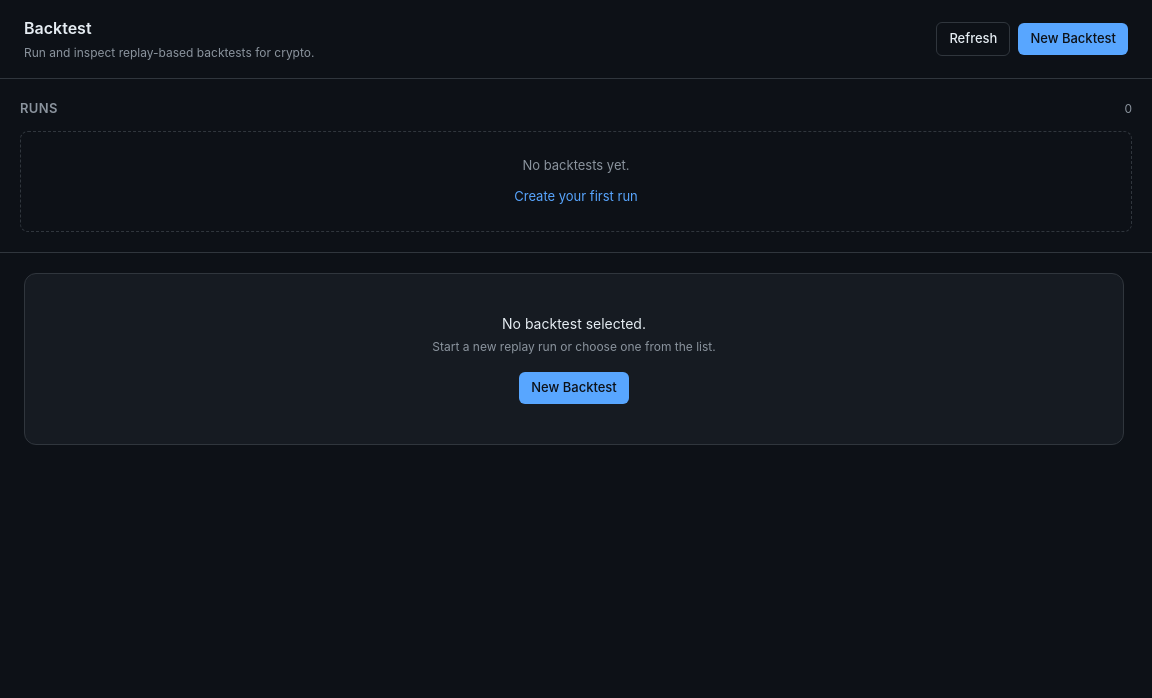
Test: BacktestPage › creates a new backtest from fetched bars
This screenshot has width=1152, height=698.
Click the 1st button "New Backtest" at {"x": 1073, "y": 39}, box [1018,23,1128,55]
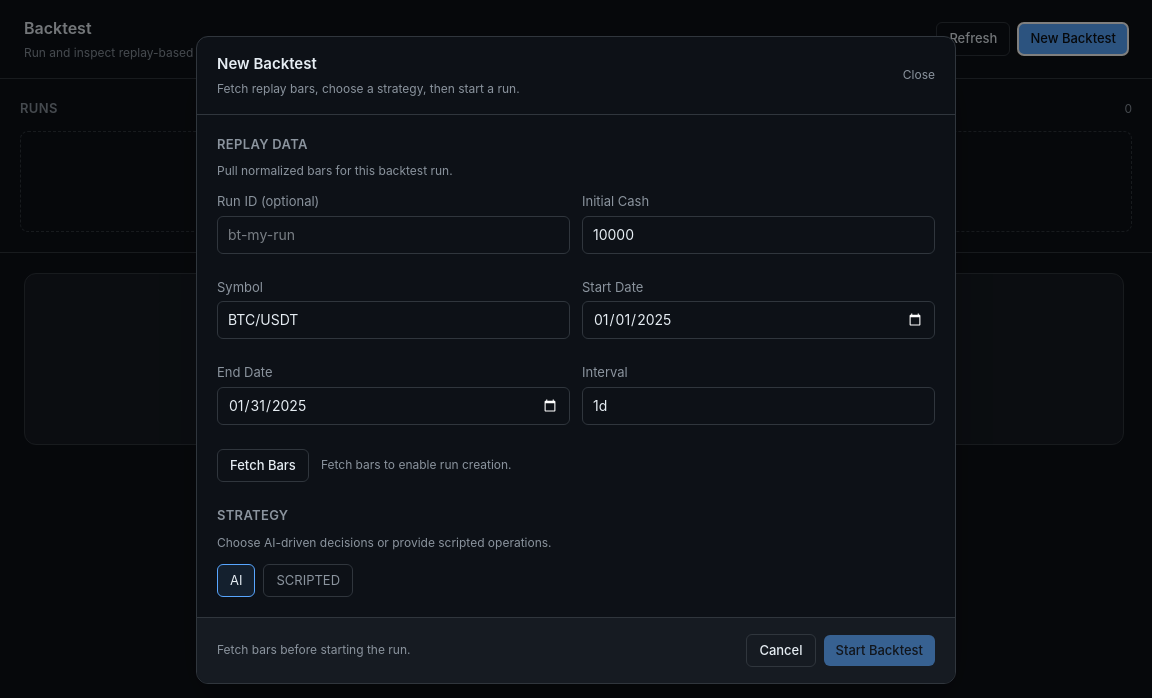
Check: the button "Start Backtest" is shown, box [824,634,935,666]
Type "bt-sample" into the field labelled "Run ID (optional)" at {"x": 394, "y": 234}, box [217,216,570,254]
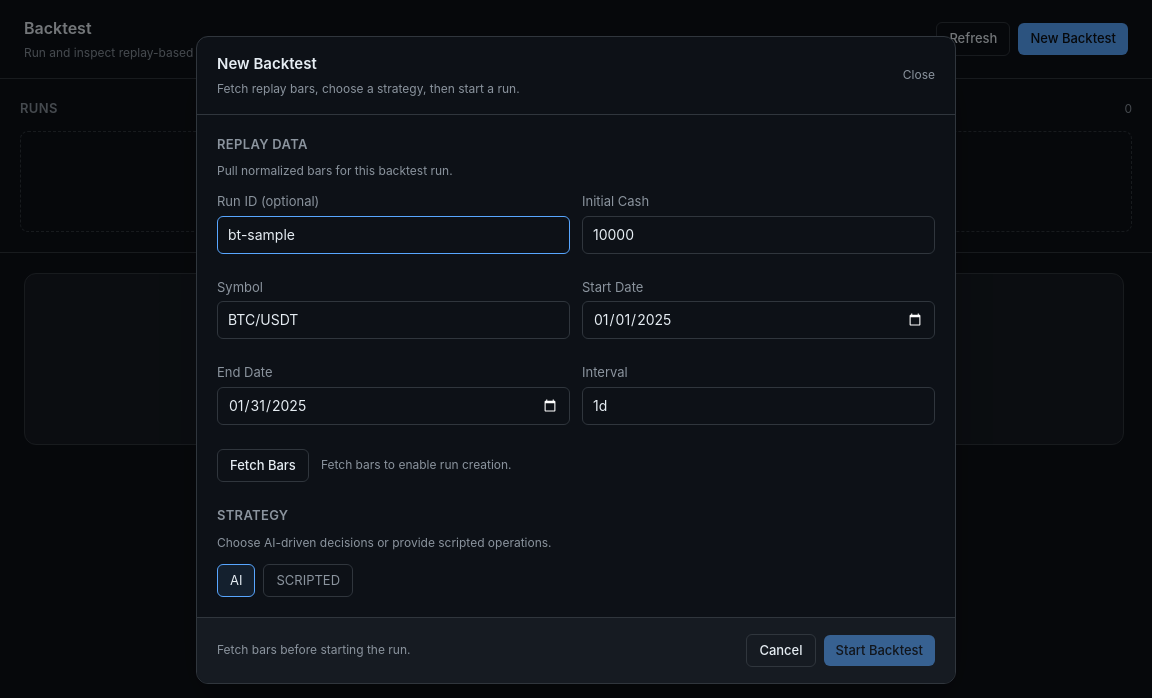
Replace the text in the field labelled "Initial Cash" with "15000" at {"x": 758, "y": 234}, box [582,216,935,254]
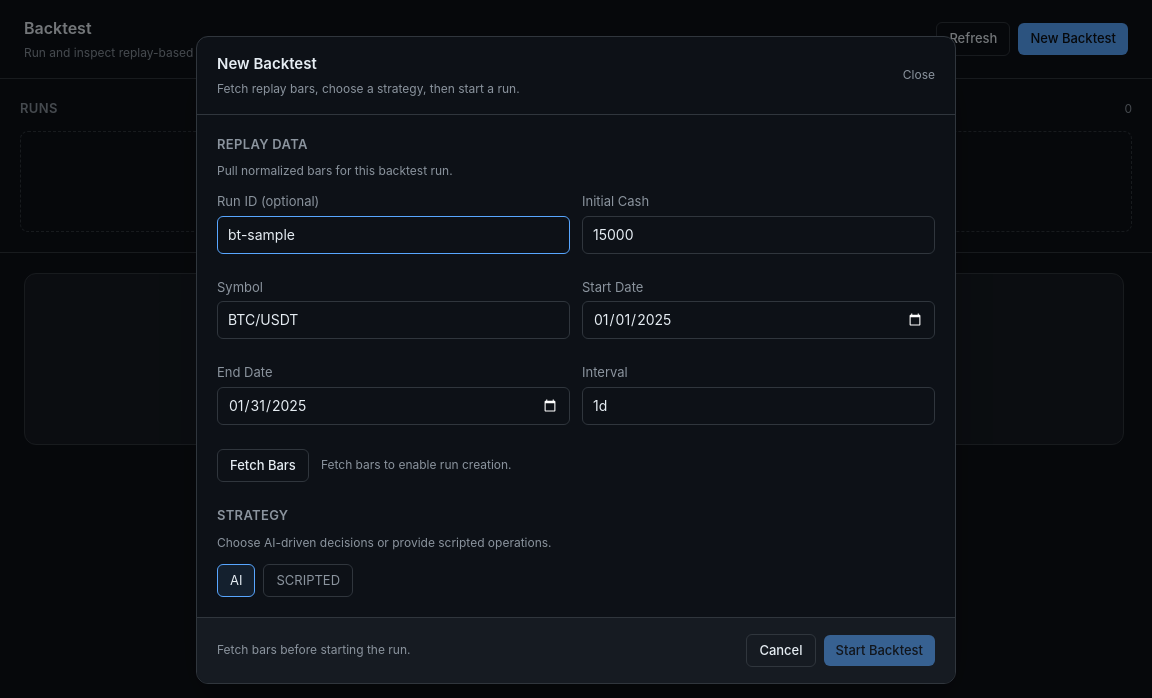
Click the button "Fetch Bars" at {"x": 263, "y": 465}, box [217,448,309,482]
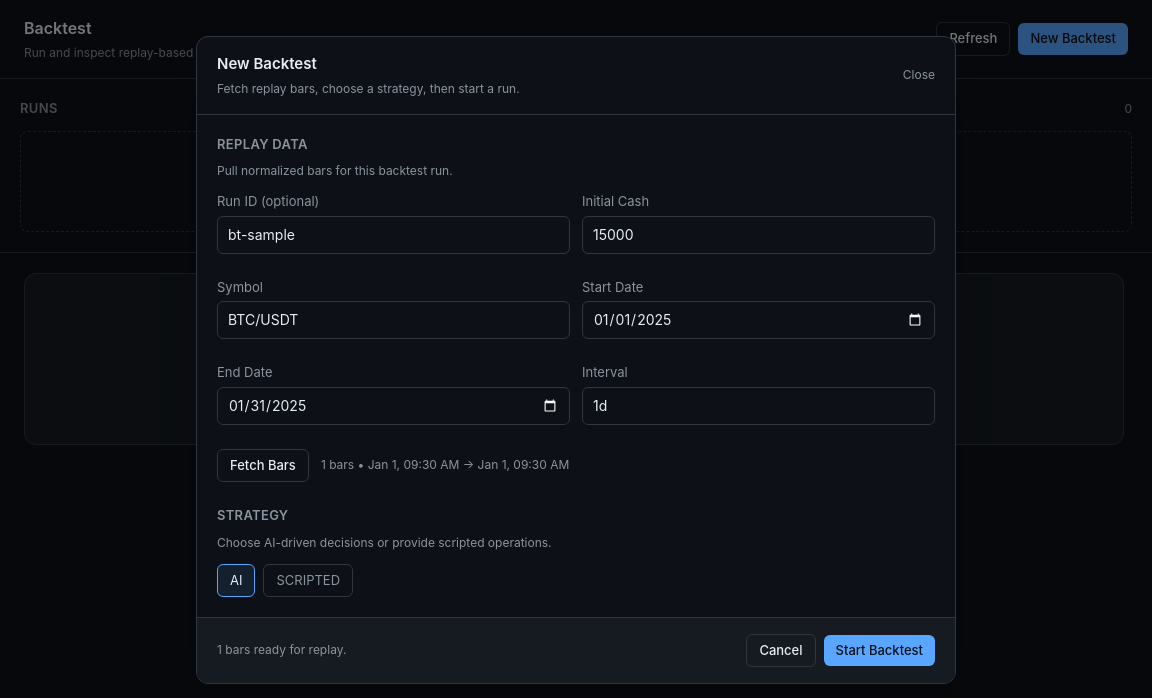
Click the button "Start Backtest" at {"x": 879, "y": 650}, box [824,634,935,666]
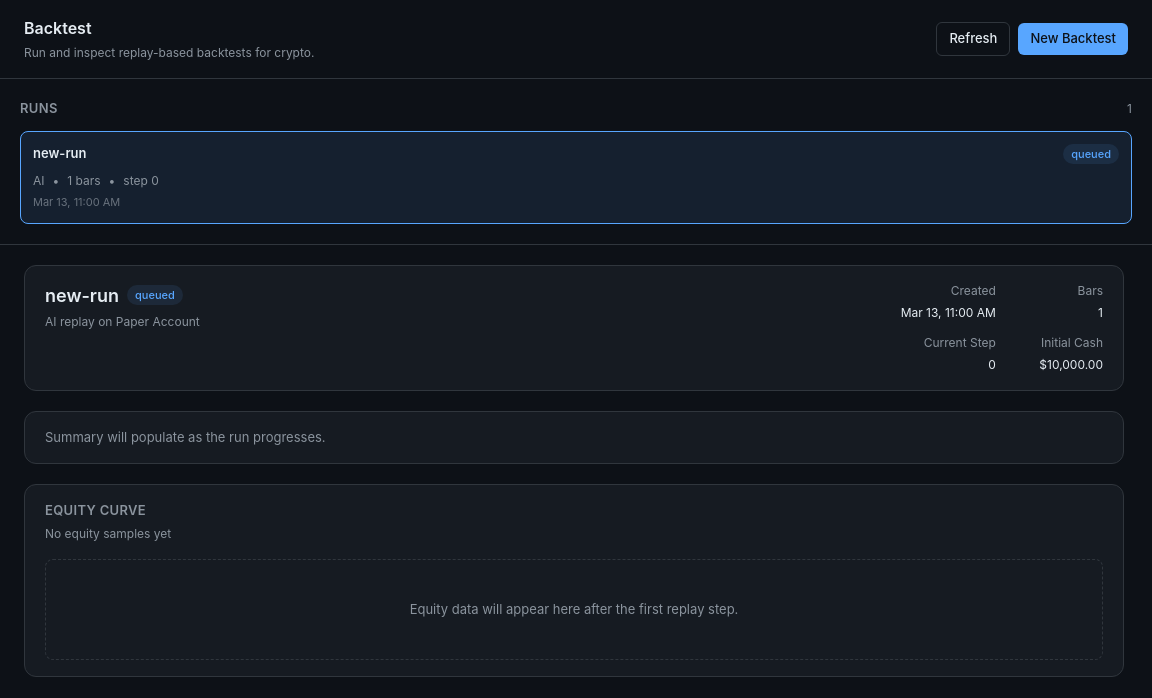
Check: the text "new-run" is shown, box [33,144,86,164]
